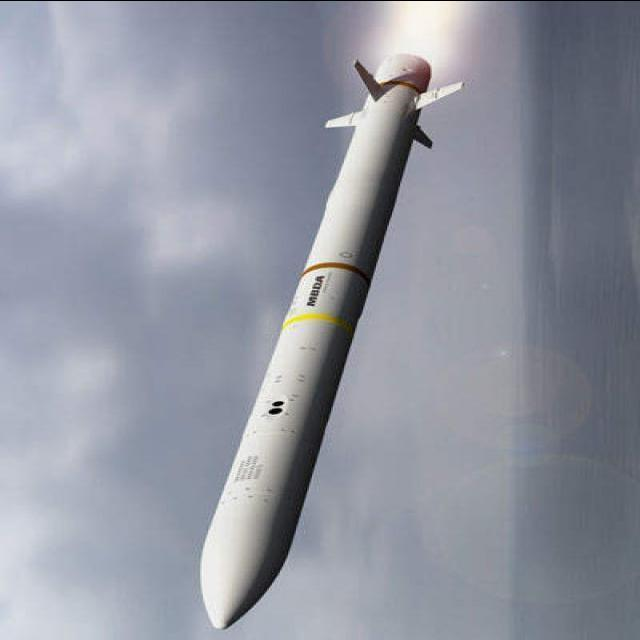missile: (195, 54, 455, 629)
